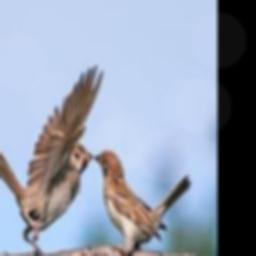Sparrow: (0, 67, 104, 255), (96, 150, 192, 256)
